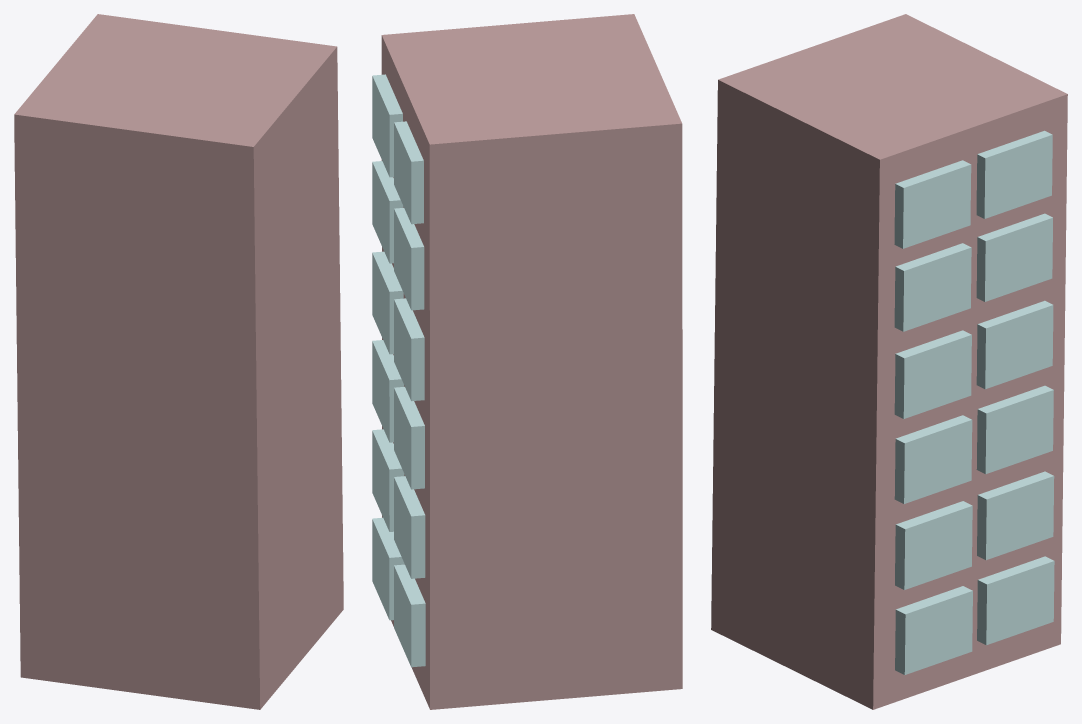
File: Decorative_Building.fbx
3 views of the same model, side by side, from view 1: azimuth 30°, elevation 25°; view 2: azimuth 150°, elevation 25°; view 3: azimuth 270°, elevation 25° (orthographic). The views are drawn at different scales.
Parts seen in each view (by area): view 1: Decorative_Building; view 2: Decorative_Building; view 3: Decorative_Building.
Boxes of the visible parts, box(x1,y1,x2,y2) form: Decorative_Building: box(14, 14, 343, 709); Decorative_Building: box(372, 14, 682, 709); Decorative_Building: box(711, 14, 1067, 709).
Bounding box in the file's own units: 107 × 184 × 108.
